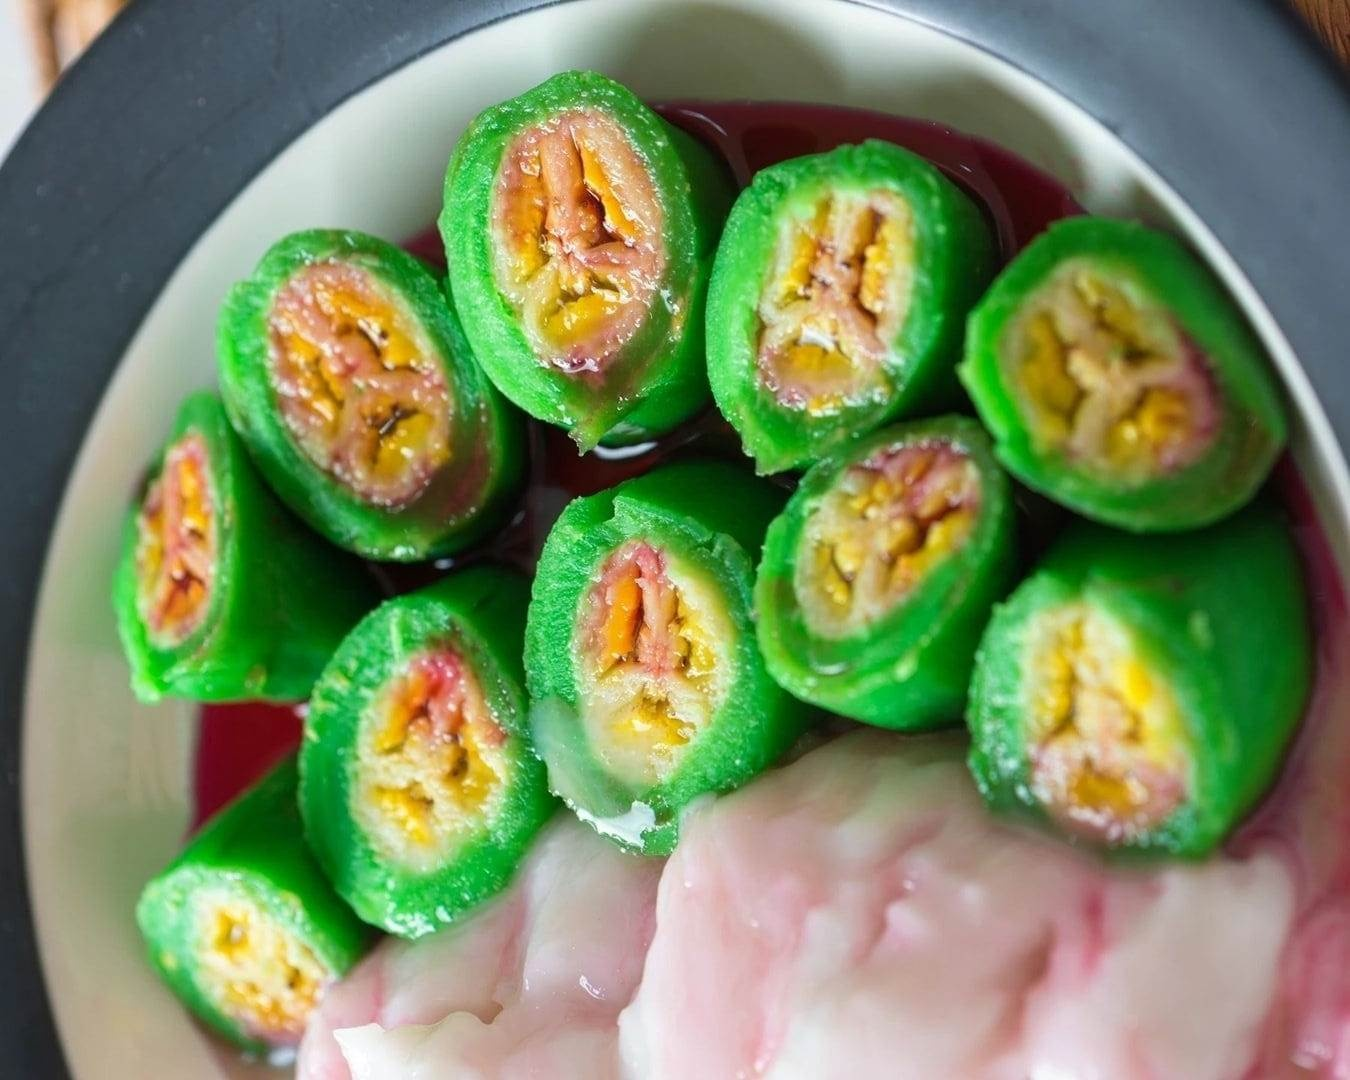pisang_ijo: (195, 227, 517, 559), (456, 61, 691, 460), (514, 490, 768, 829), (294, 624, 553, 944), (711, 134, 957, 450)
